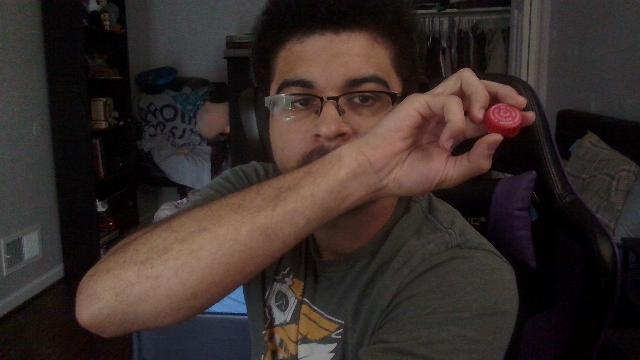cap: (485, 102, 521, 136)
